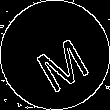M_NW: (22, 21, 88, 89)
